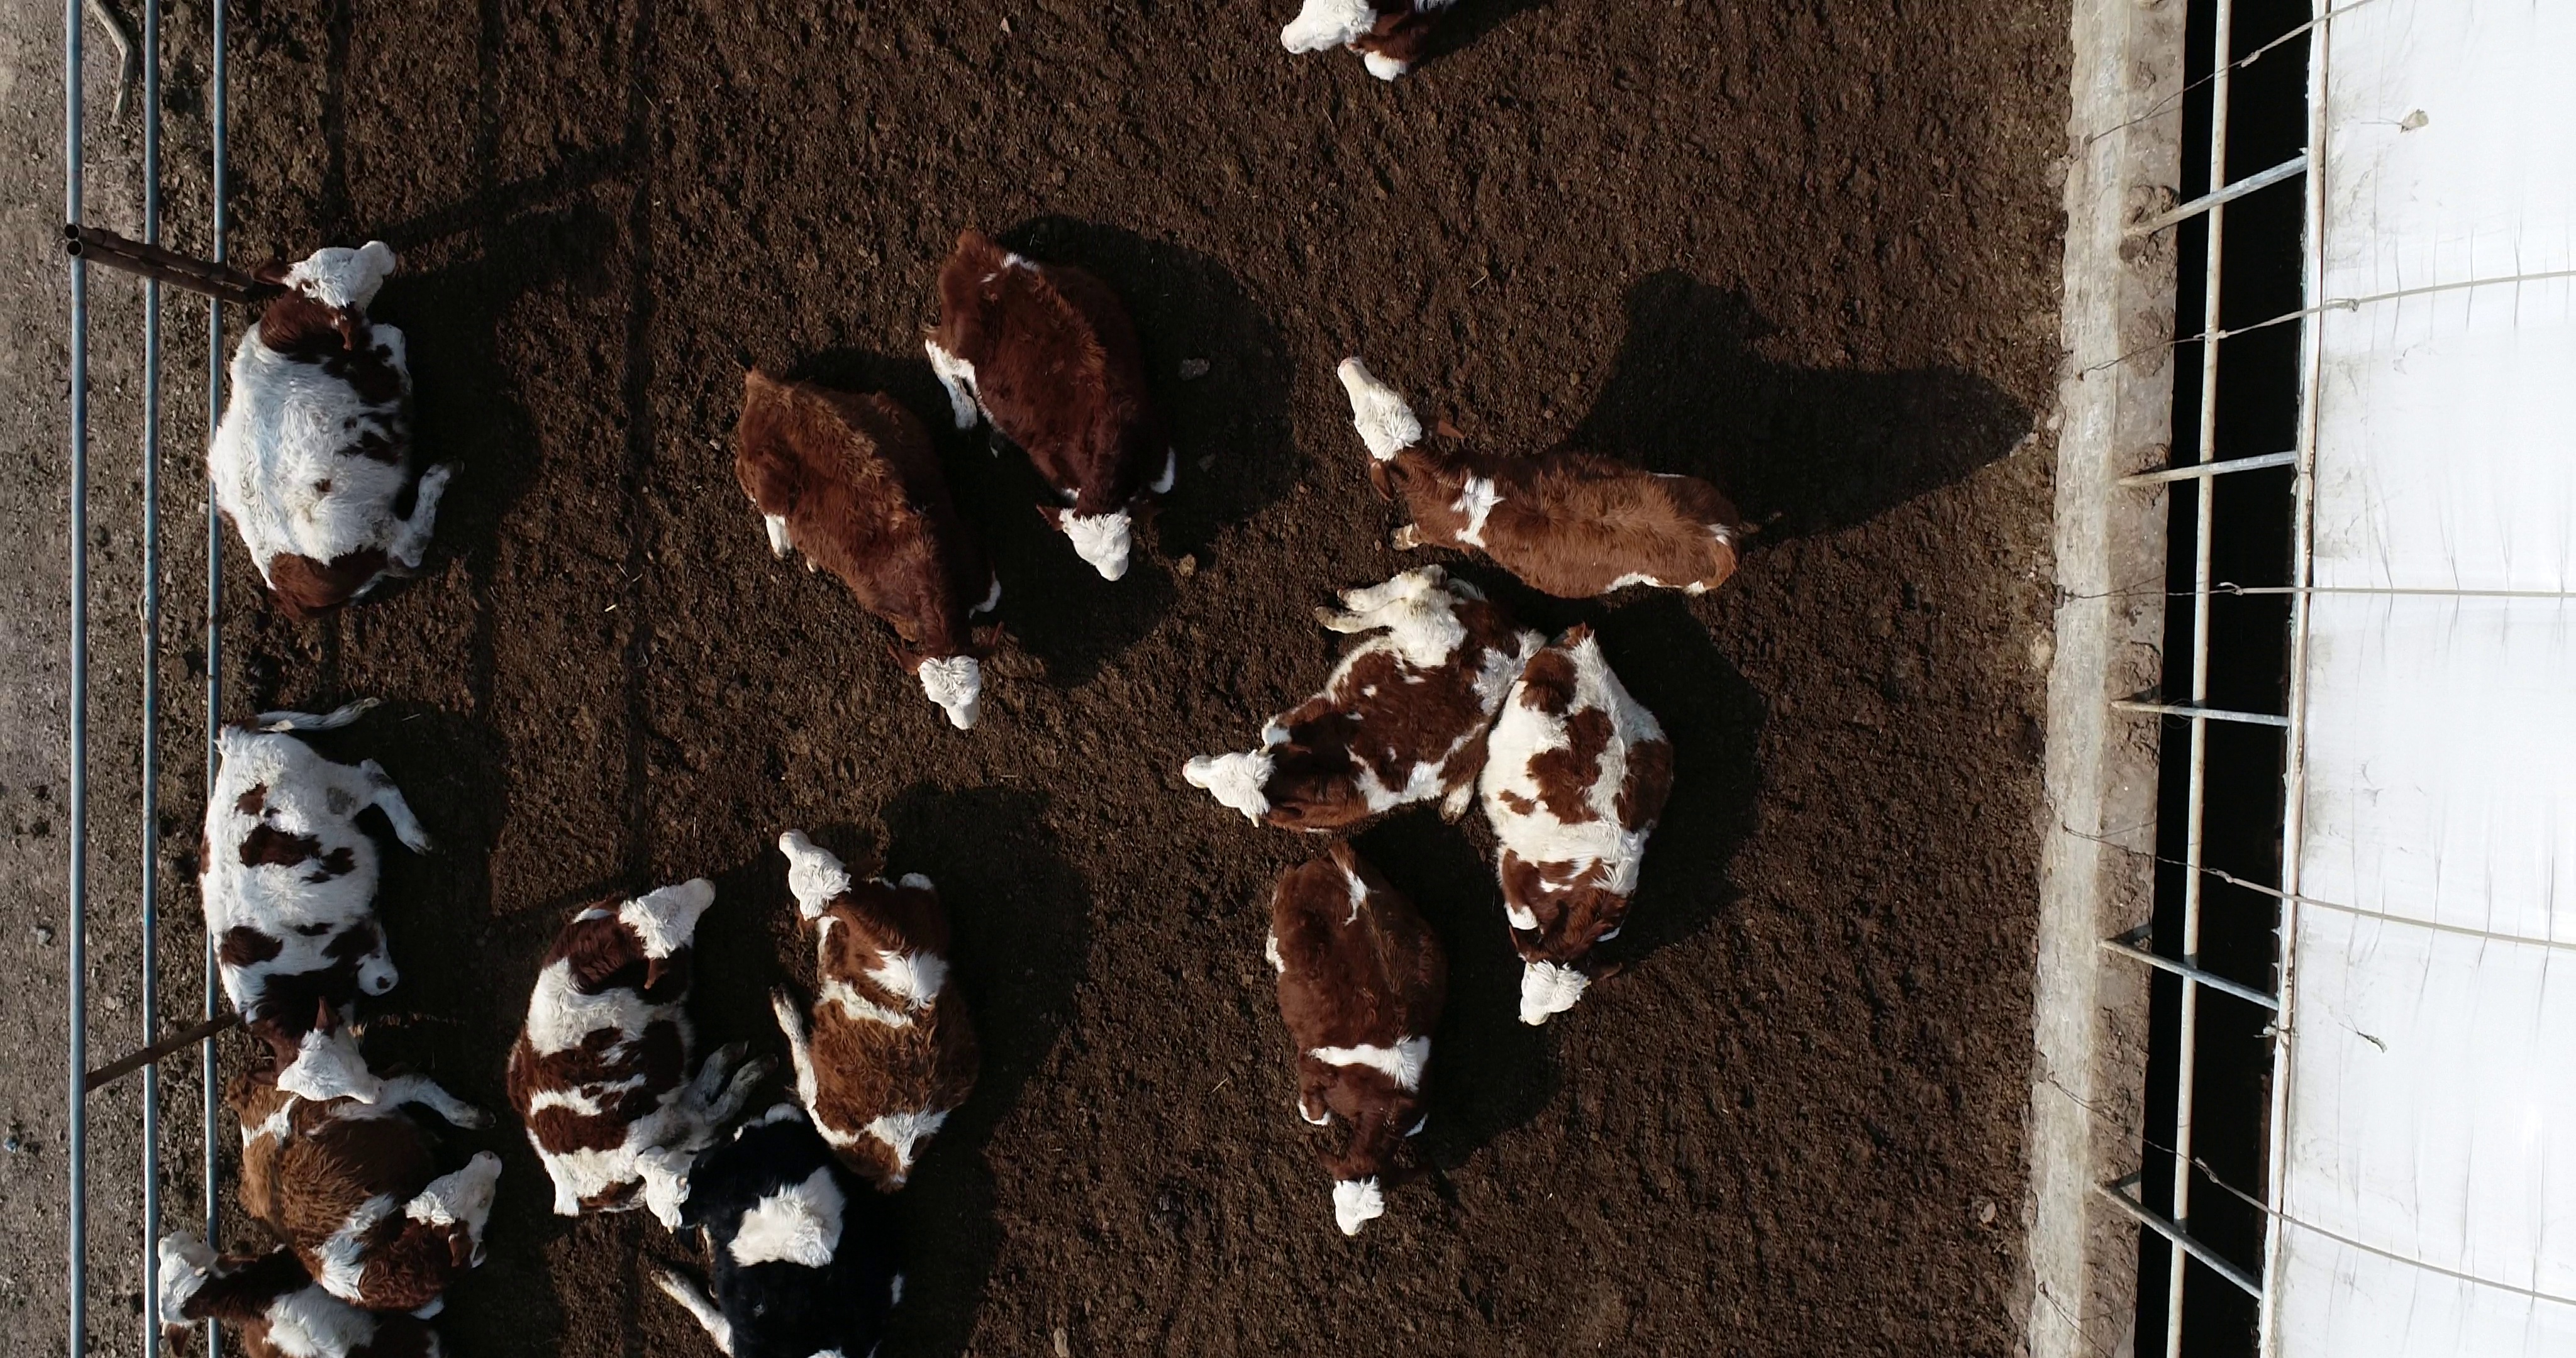cattle: (714, 353, 1017, 743), (1332, 348, 1785, 600), (186, 693, 445, 1118), (496, 864, 791, 1234), (199, 228, 469, 629), (913, 216, 1191, 590), (758, 820, 993, 1206), (1472, 615, 1682, 1039), (1257, 835, 1462, 1247)
